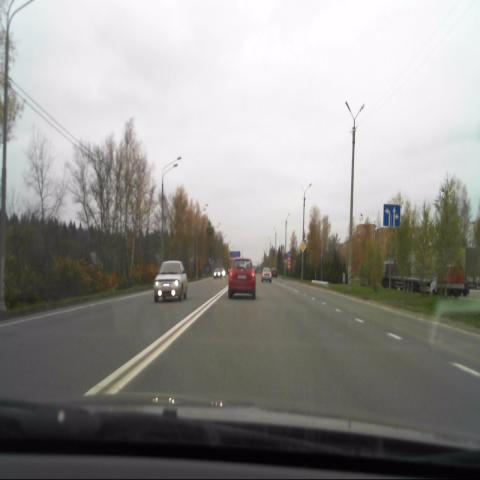2_1: (300, 240, 306, 252)
5_15_2_2: (383, 203, 400, 227)
